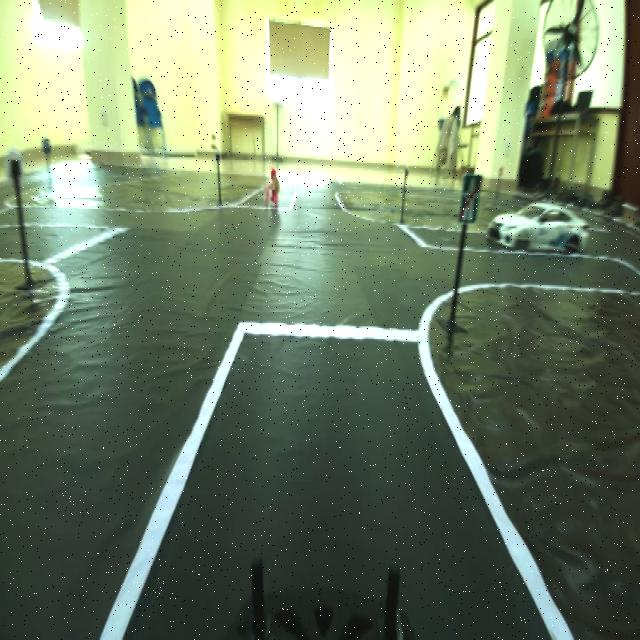highway_exit: (456, 169, 483, 224)
